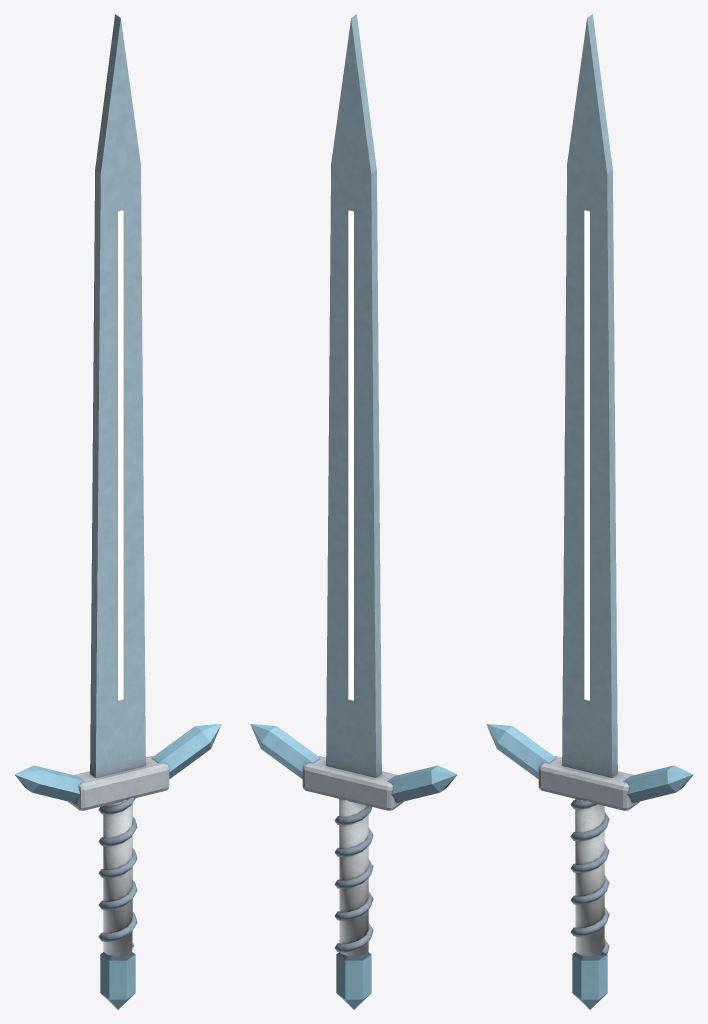
Rendered from 04_tundra_sword.fbx.
The picture shows the model from 3 angles, left to right: view 1: azimuth 30°, elevation 25°; view 2: azimuth 150°, elevation 25°; view 3: azimuth 330°, elevation 25°; orthographic projection.
Visible parts, largest first — view 1: Weapon; view 2: Weapon; view 3: Weapon.
Part boxes in pixels (x1,y1,x2,y2): Weapon: (14,14,221,1009); Weapon: (250,14,457,1009); Weapon: (486,14,693,1009).
Bounding box in the file's own units: 27.53 × 126 × 4.3.
Materials: 2 (1 with a texture image).
